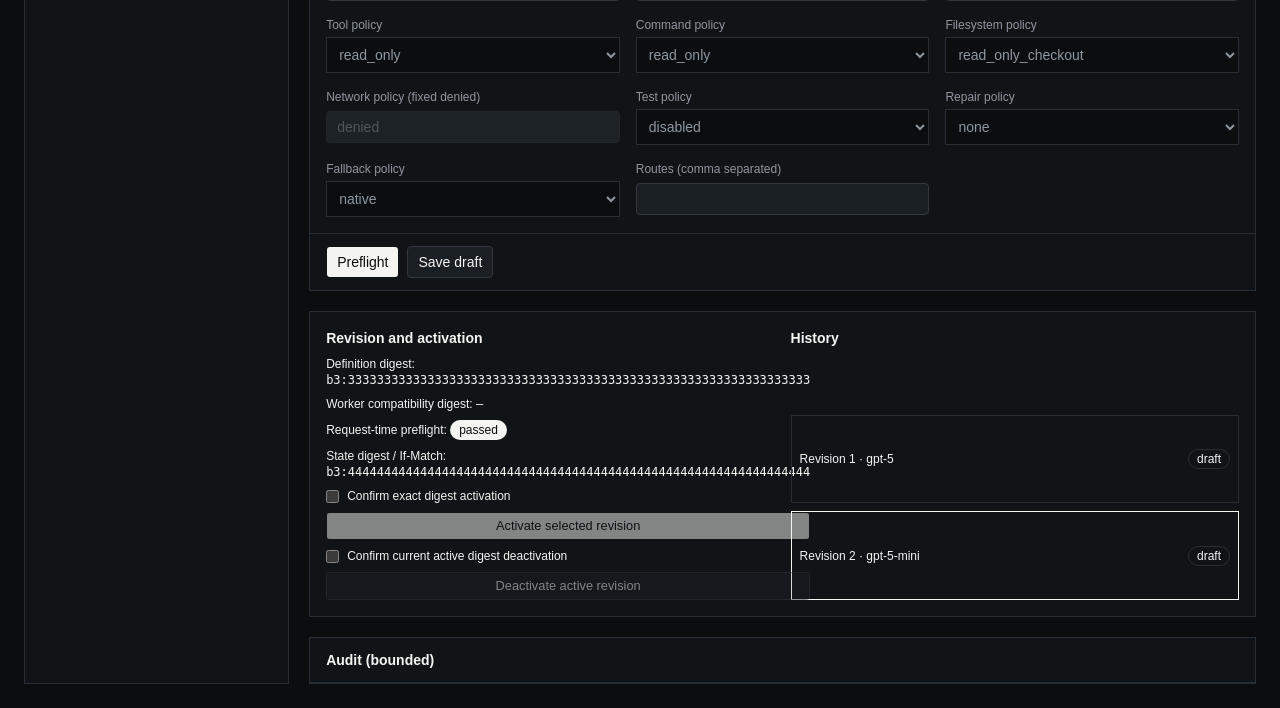
Test: role profiles editor invalidates activation and deactivation confirmations when the view revision changes
The image size is (1280, 708).
(page scrolled)
Click the checkbox labelled "Confirm exact digest activation".
click(333, 496)  # box [326,490,339,502]
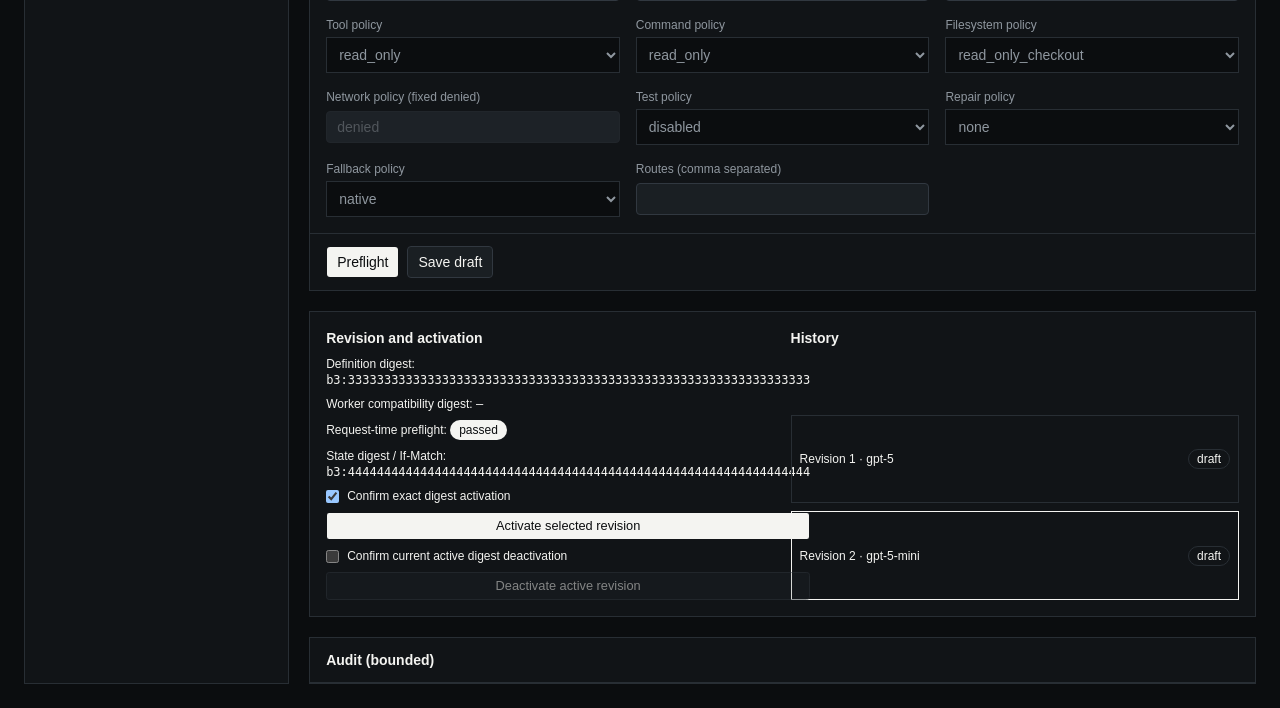
Click the checkbox labelled "Confirm current active digest deactivation".
click(333, 556)  # box [326,550,339,562]
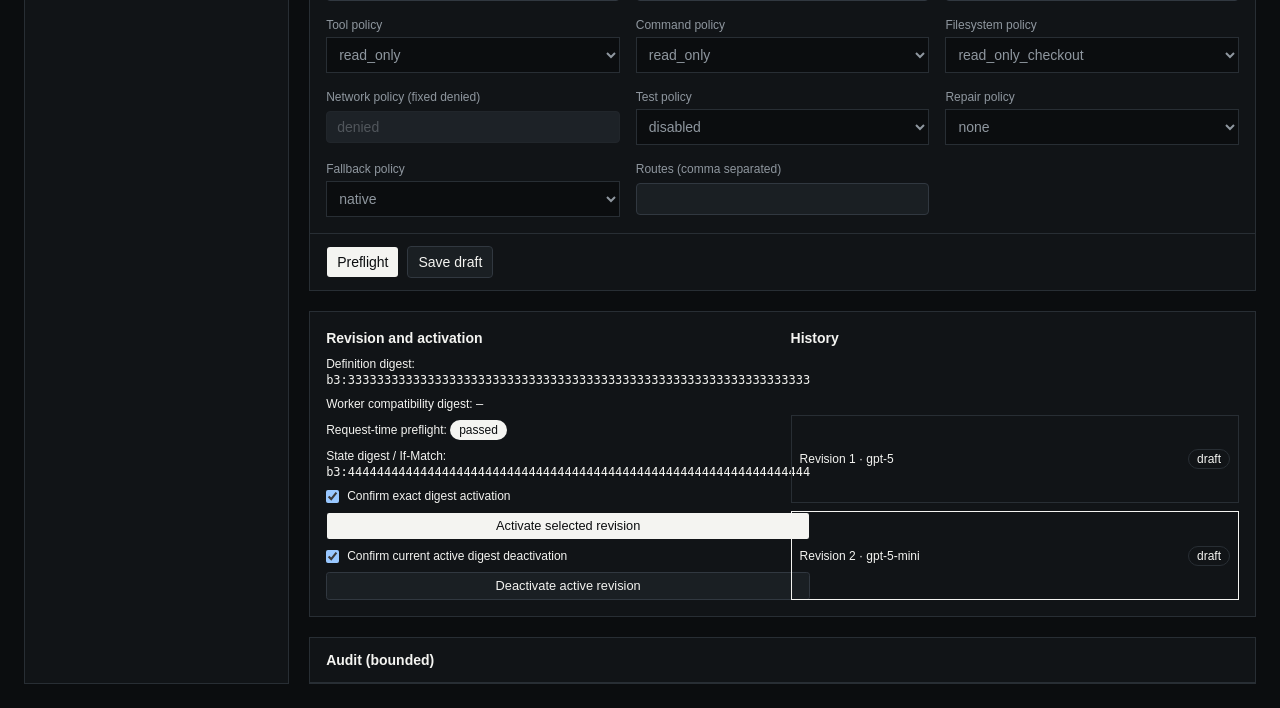
Expected: the checkbox labelled "Confirm exact digest activation" is checked, [326,490,339,502]
Expected: the checkbox labelled "Confirm current active digest deactivation" is checked, [326,550,339,562]
Expected: the button "Activate selected revision" is enabled, [326,512,810,540]
Click the button "Revision 1 · gpt-5 draft".
click(824, 459)  # box [791,415,1239,503]
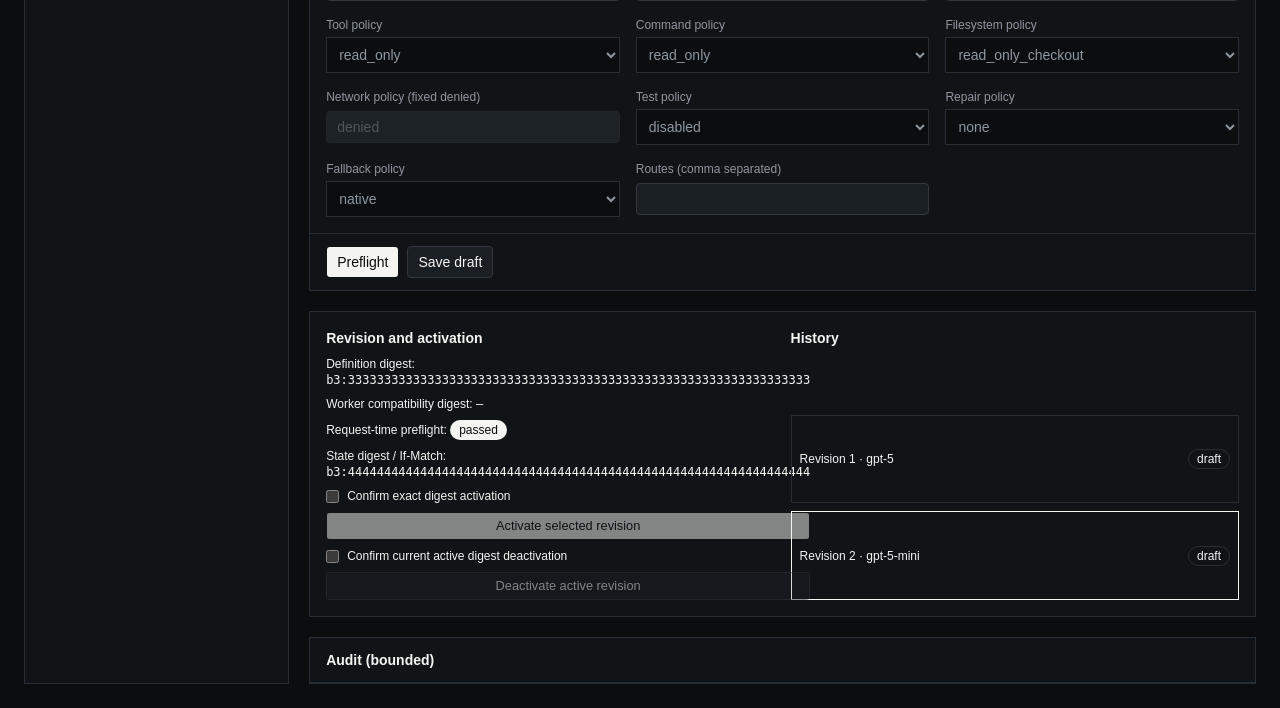
Expected: the checkbox labelled "Confirm exact digest activation" is not checked, [326,490,339,502]
Expected: the checkbox labelled "Confirm current active digest deactivation" is not checked, [326,550,339,562]
Expected: the button "Activate selected revision" is disabled, [326,512,810,540]
